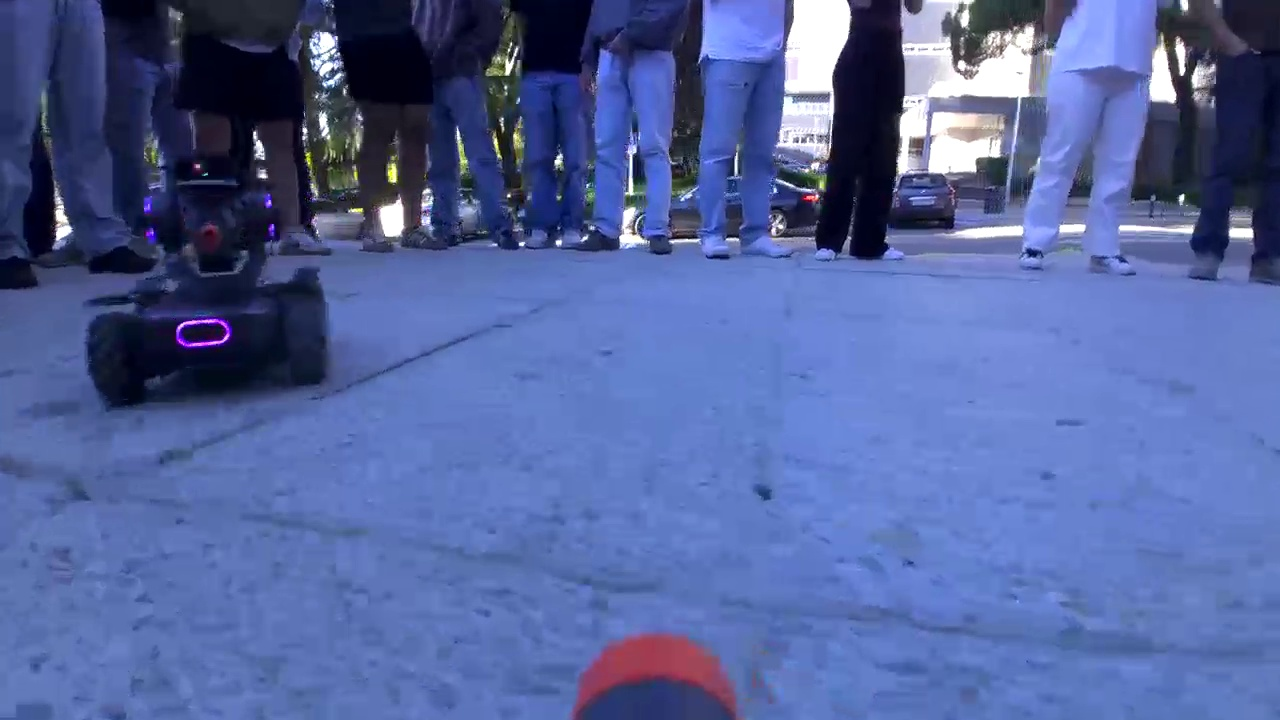robot: (68, 183, 366, 402)
